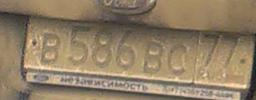license-plateSW: (25, 15, 254, 88)
